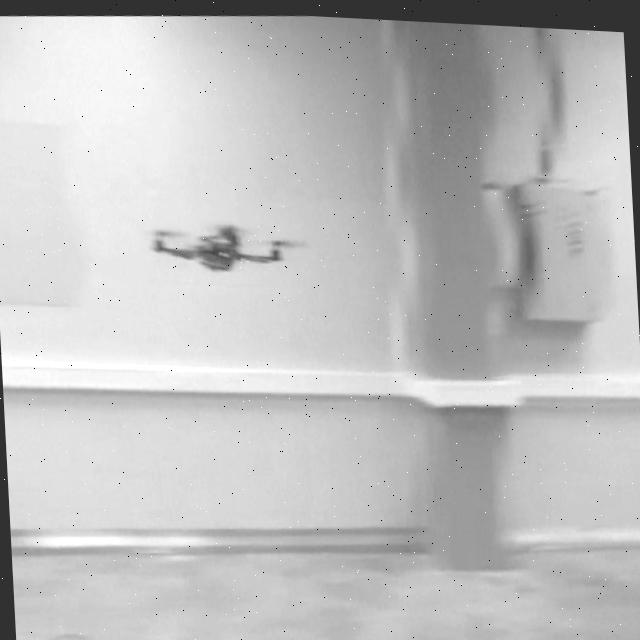drone: (144, 206, 302, 279)
